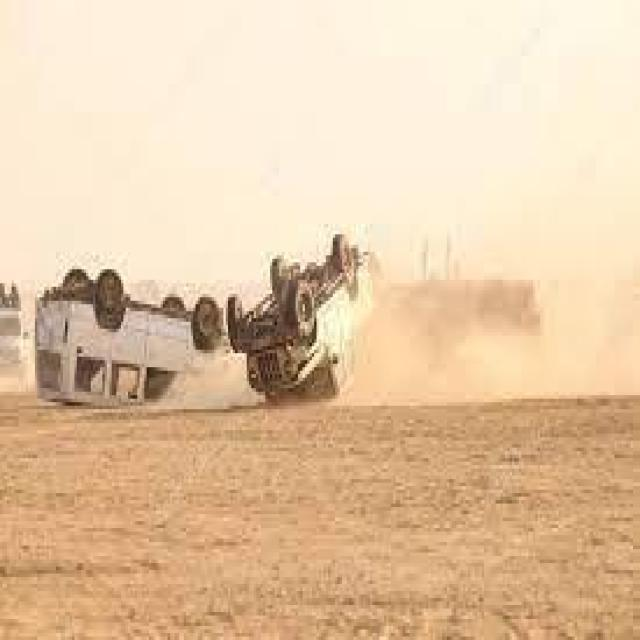severe: (29, 252, 225, 409), (224, 224, 390, 402)
